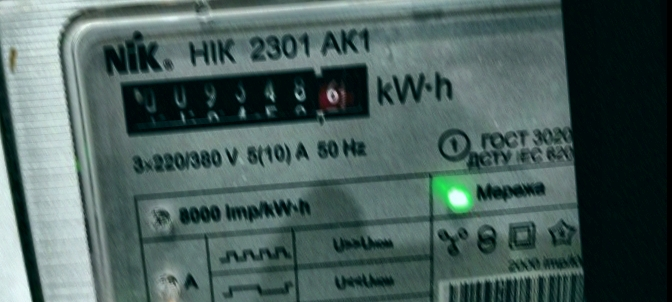0: (142, 87, 161, 114), (173, 81, 189, 108)
3: (234, 77, 250, 103)
4: (261, 73, 281, 104)
6: (324, 76, 344, 106)
8: (293, 73, 310, 102)
9: (204, 82, 220, 110)
screen: (104, 48, 387, 149)
